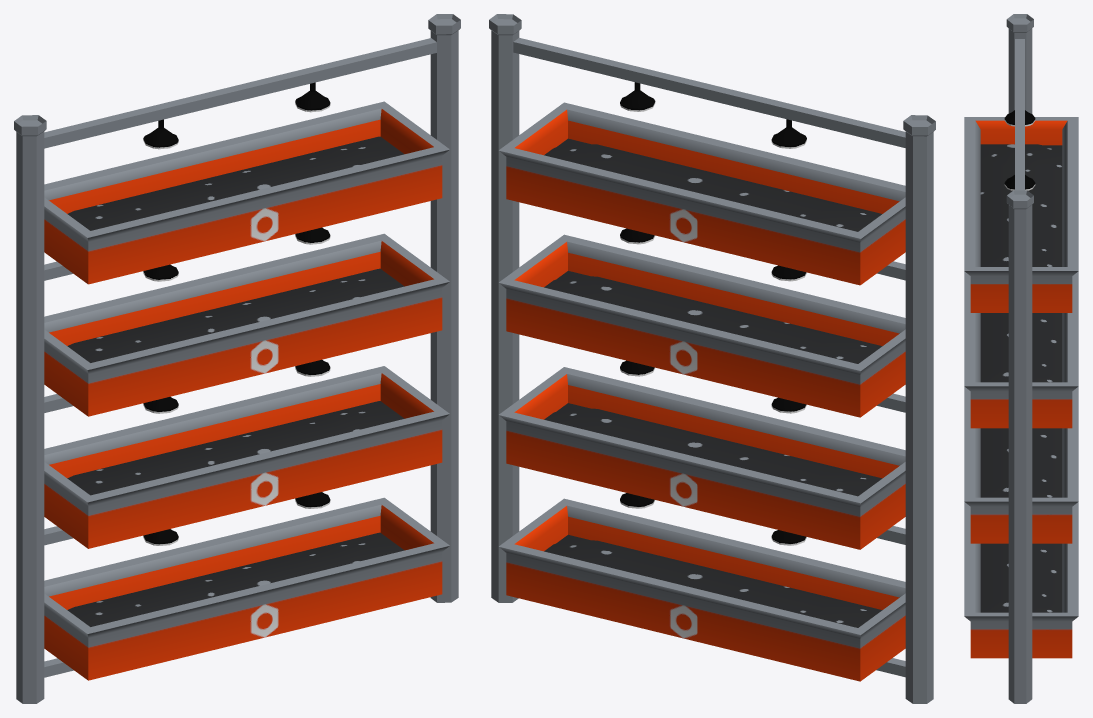
The model's file is greenhouse (1).fbx.
3 renders of one model, left to right at view 1: azimuth 30°, elevation 25°; view 2: azimuth 150°, elevation 25°; view 3: azimuth 270°, elevation 25°, orthographic. The views are drawn at different scales.
Visible parts, largest first — view 1: planters, lamps1, soils, bars; view 2: planters, lamps1, soils, bars; view 3: planters, soils, lamps1, bars.
Boxes of the visible parts, bbox=[...] form: planters: bbox=[44, 101, 449, 680]; lamps1: bbox=[14, 14, 460, 703]; soils: bbox=[67, 136, 404, 626]; bars: bbox=[44, 38, 436, 677]; planters: bbox=[498, 102, 905, 681]; lamps1: bbox=[489, 14, 935, 703]; soils: bbox=[544, 138, 882, 627]; bars: bbox=[513, 37, 905, 666]; planters: bbox=[964, 117, 1078, 658]; soils: bbox=[980, 144, 1062, 612]; lamps1: bbox=[1004, 14, 1035, 703]; bars: bbox=[1015, 39, 1024, 190].
Bounding box in the file's own units: 0.1281 × 0.1611 × 0.0332.
